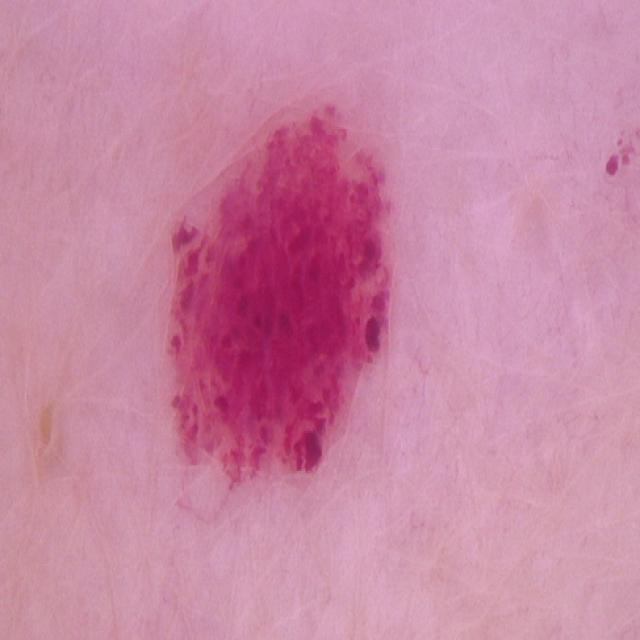Vascular Lesions: (145, 94, 405, 487)
